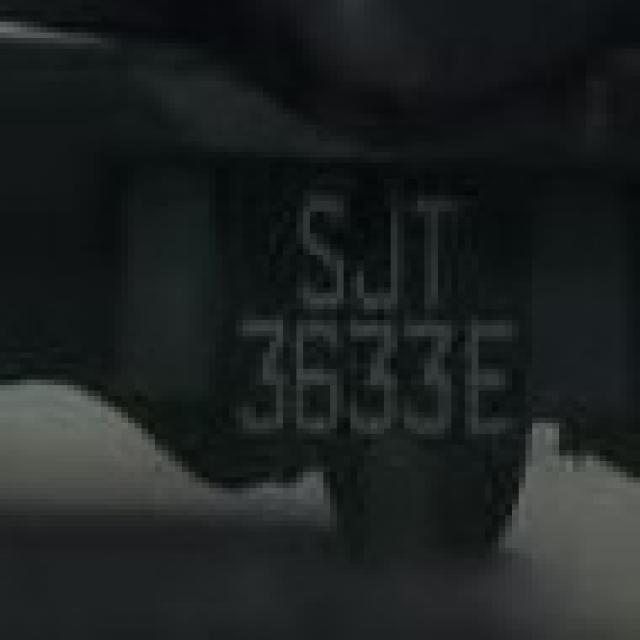3: (232, 312, 287, 439), (402, 321, 457, 442), (350, 317, 400, 443)
6: (292, 312, 346, 441)
E: (462, 318, 524, 438)
J: (352, 192, 403, 314)
S: (291, 191, 347, 310)
T: (409, 191, 464, 309)
